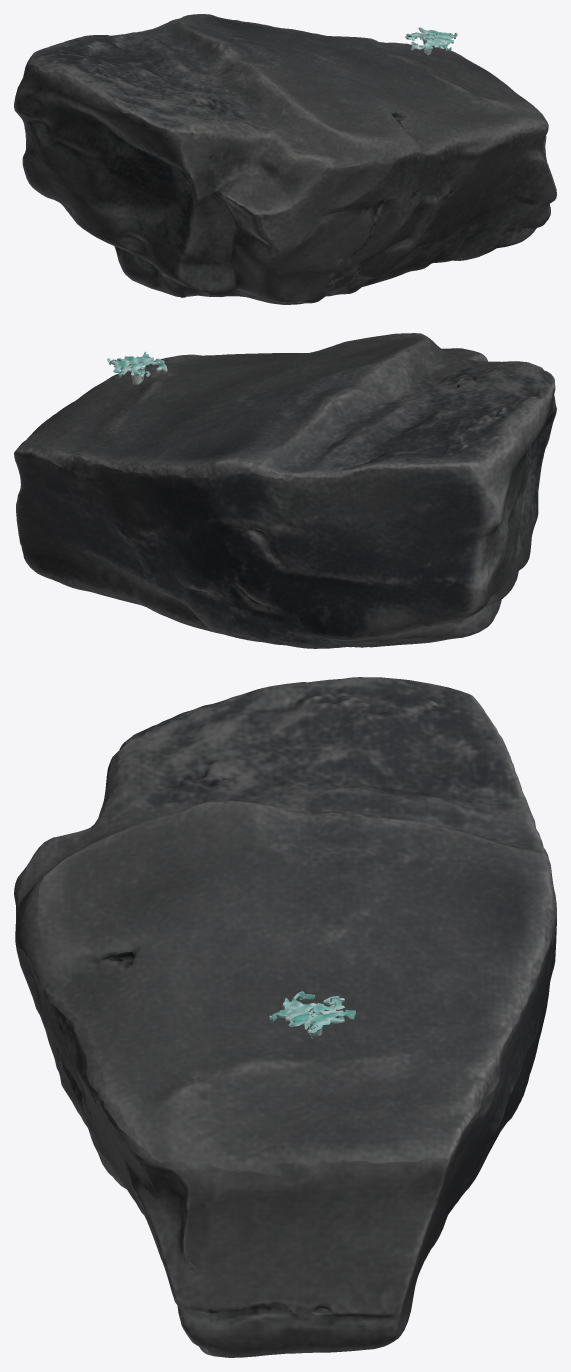
The picture shows the model from 3 angles, top to bottom: view 1: azimuth 30°, elevation 25°; view 2: azimuth 150°, elevation 25°; view 3: azimuth 270°, elevation 25°; orthographic projection. The views are drawn at different scales.
Parts seen in each view (by area): view 1: world; view 2: world; view 3: world.
Boxes of the visible parts, x1=… form: world: x1=14, y1=14, x2=556, y2=304; world: x1=14, y1=333, x2=556, y2=648; world: x1=14, y1=677, x2=556, y2=1357.
Bounding box in the file's own units: 3.5 × 1.76 × 2.33.
1 material, 1 textured.
